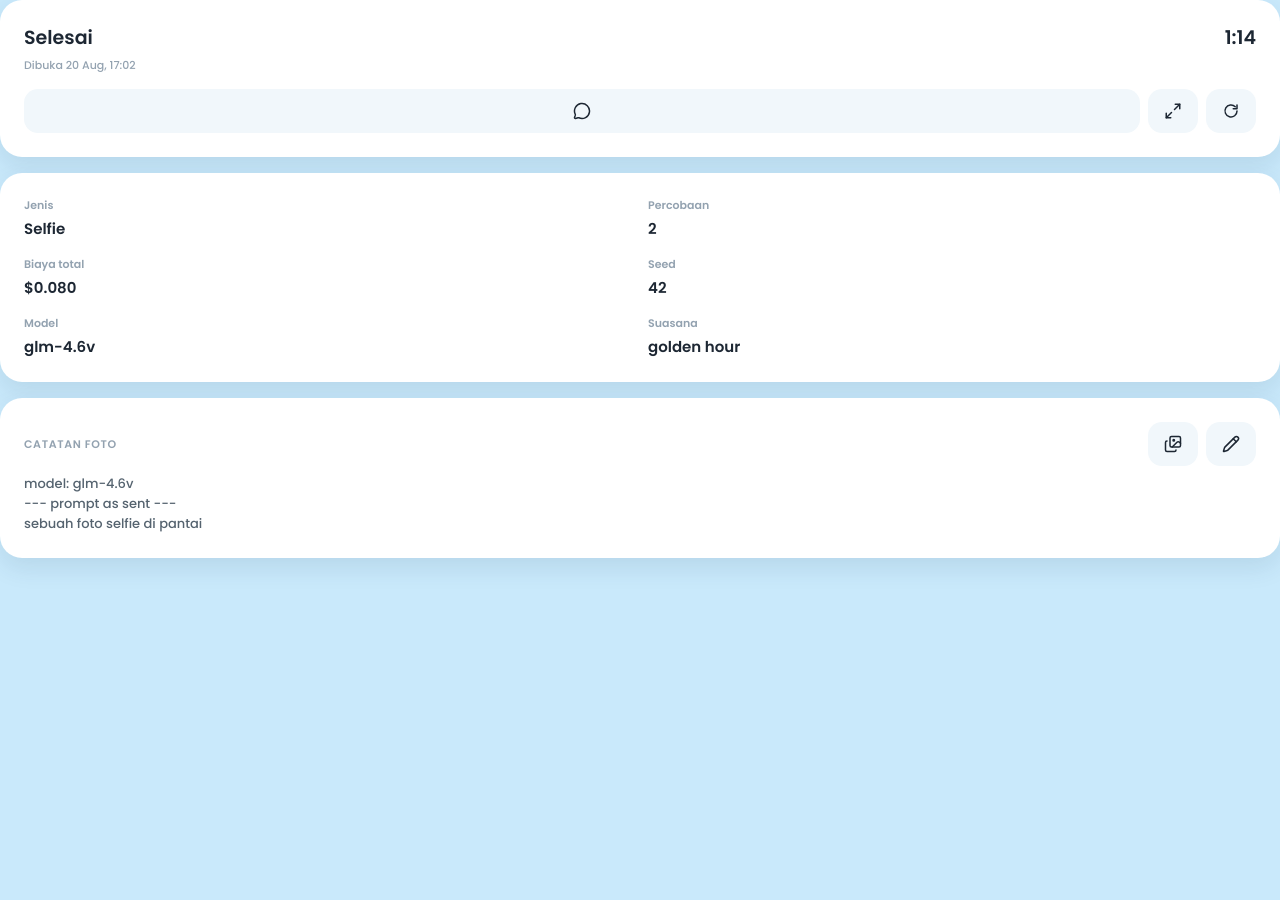
Test: NinaJobDetail › Batal discards the draft and returns to the read-only view untouched
Step 1. Click the button named "Ubah prompt" → (1231, 444), box [1206,422,1256,466]
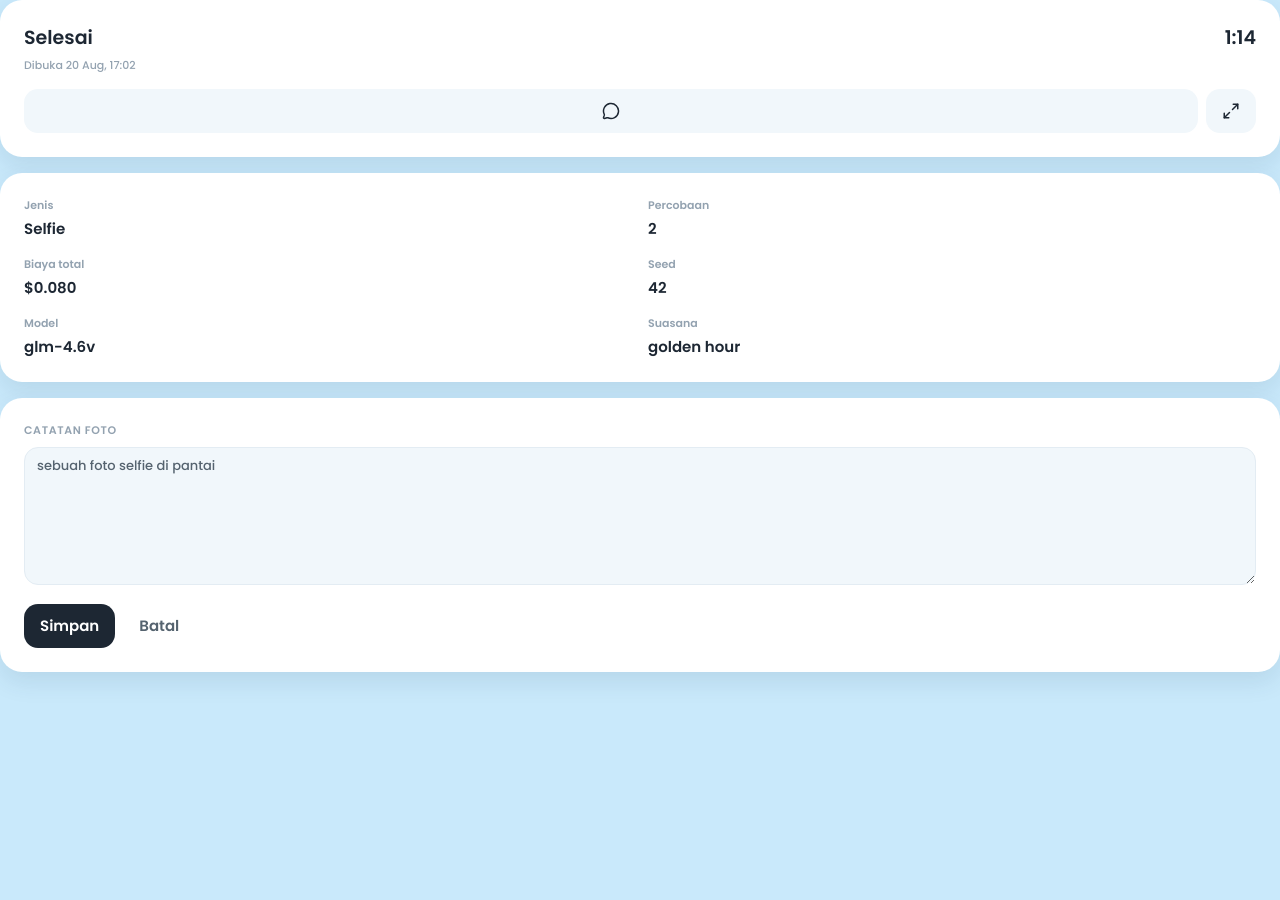
Step 2. Replace the text in the text box named "Prompt" with "a different draft" → (640, 516), box [24,446,1256,585]
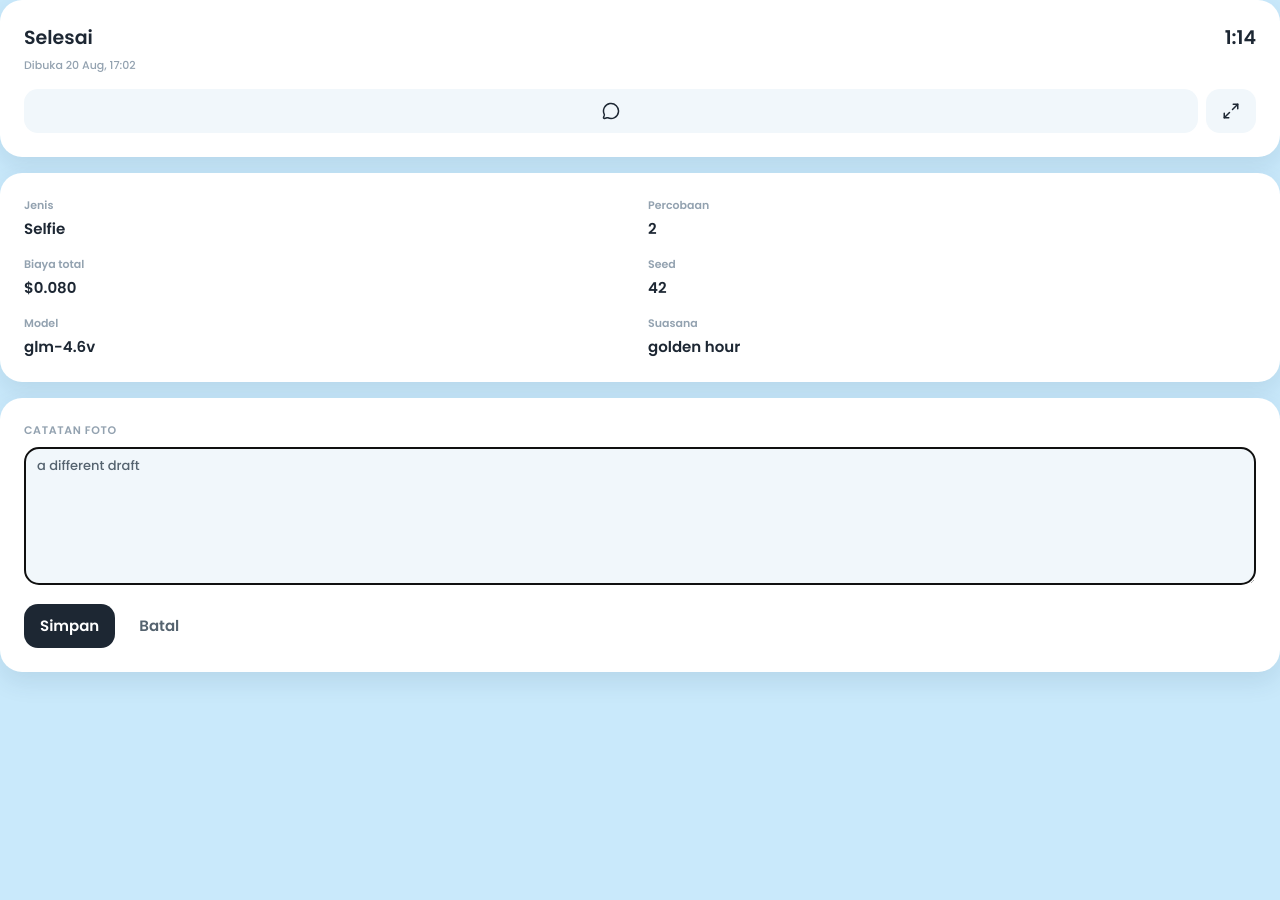
Step 3. Click the button "Batal" → (159, 626), box [123,604,195,648]
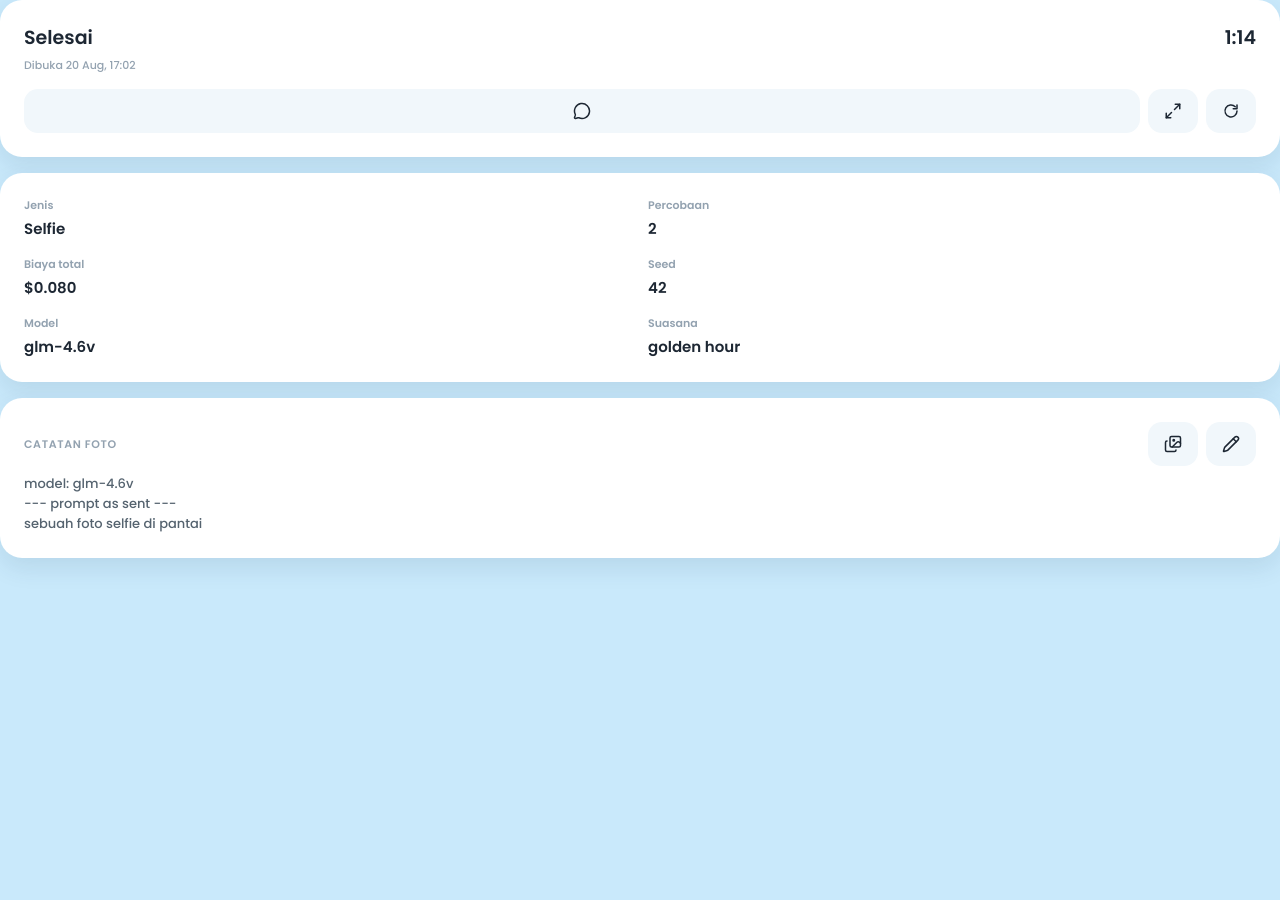
Result: the text "--- prompt as sent ---" is shown at [24,474,202,533]
